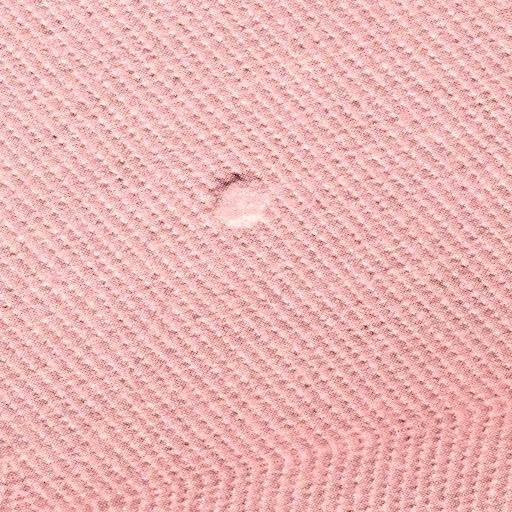knot: (211, 168, 277, 239)
